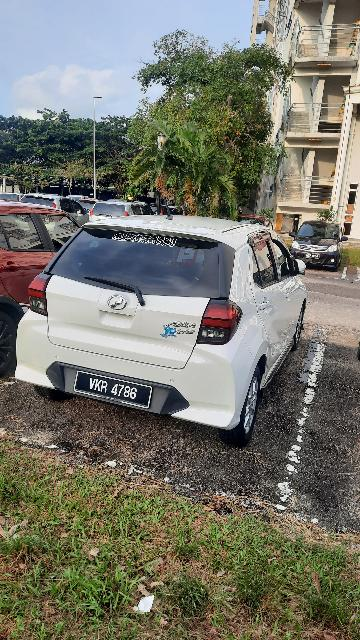License_Plate: (71, 367, 160, 417)
car: (17, 209, 317, 456), (285, 213, 347, 275)
